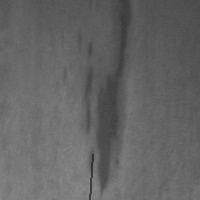inclusion: (77, 16, 129, 199), (87, 152, 94, 200)
